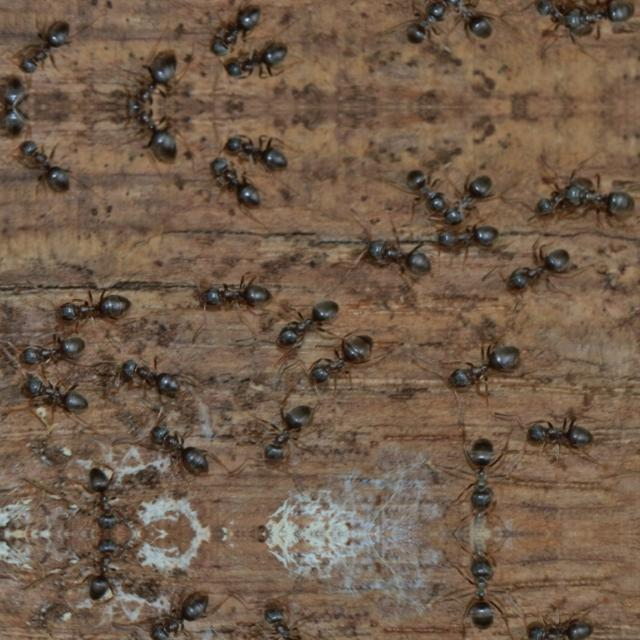Lasius: (522, 403, 608, 462), (111, 350, 202, 404), (501, 238, 579, 300), (213, 122, 299, 178), (213, 34, 299, 90), (138, 421, 218, 481), (448, 433, 502, 519), (448, 547, 502, 633), (273, 294, 345, 358), (306, 328, 379, 390), (138, 584, 218, 640), (448, 335, 520, 397), (118, 57, 190, 106), (118, 106, 190, 154), (8, 326, 84, 370), (520, 602, 608, 640), (446, 164, 502, 223), (59, 282, 134, 326), (264, 398, 314, 464), (561, 176, 639, 218), (525, 164, 595, 210), (525, 2, 595, 48), (207, 153, 259, 214), (81, 460, 125, 532), (359, 232, 431, 276), (81, 534, 125, 606), (405, 158, 457, 218), (200, 270, 276, 310), (207, 0, 259, 58), (15, 376, 83, 420), (18, 143, 82, 189), (18, 23, 82, 69), (561, 0, 639, 36), (405, 0, 457, 52), (434, 218, 506, 255), (446, 0, 502, 46), (264, 602, 314, 640), (0, 106, 32, 136), (0, 76, 32, 106)
